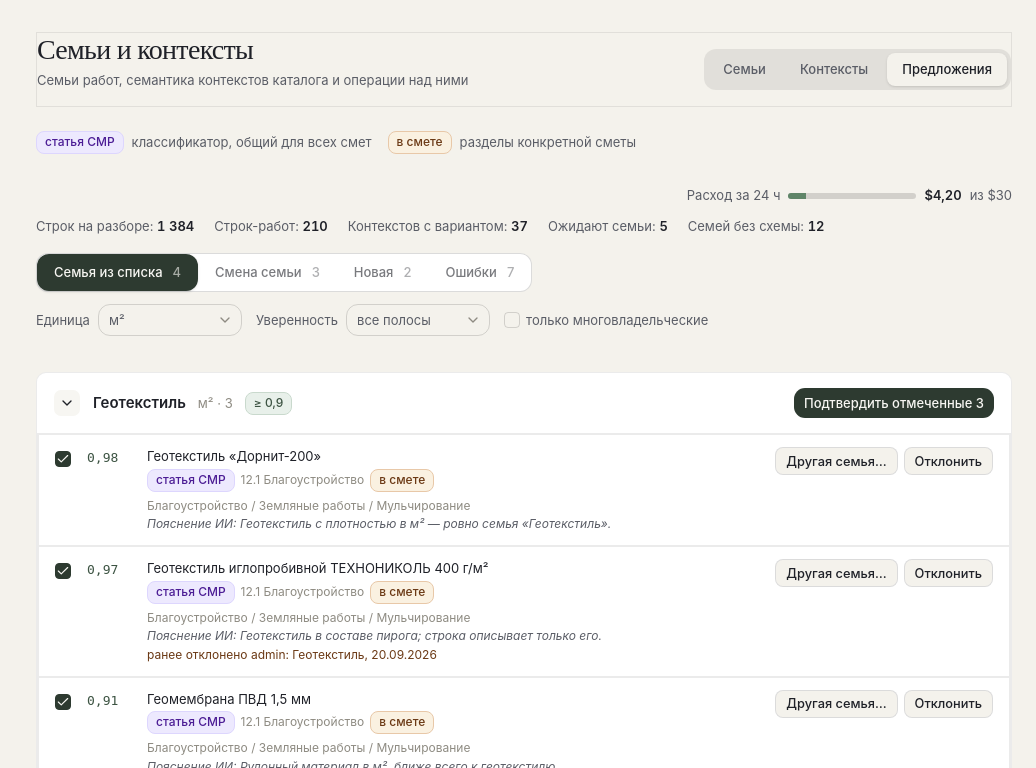
Scenario: FamiliesPage: заметка «не найдено» и жизнь цели › переход «Открыть семью» изнутри вкладки снимает параметры входа из адреса
Click the tab "Ошибки 7".
click(480, 273)  # box [428,254,531,291]
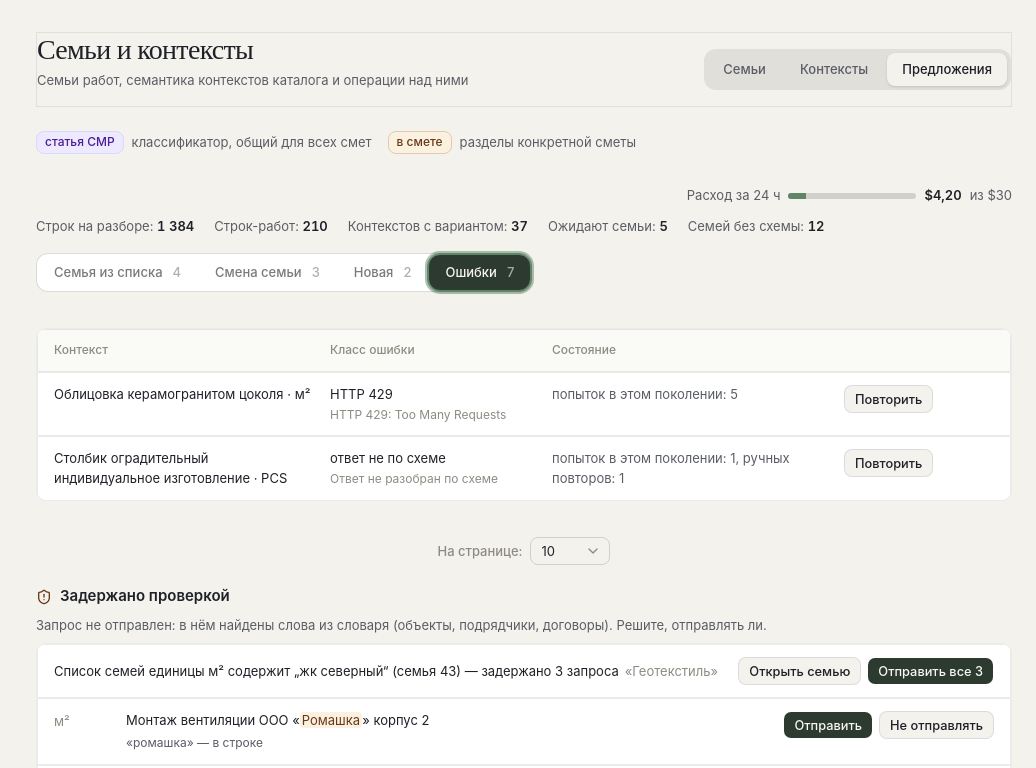
Click the button "Открыть семью".
click(800, 672)  # box [738,658,861,686]
(page scrolled)
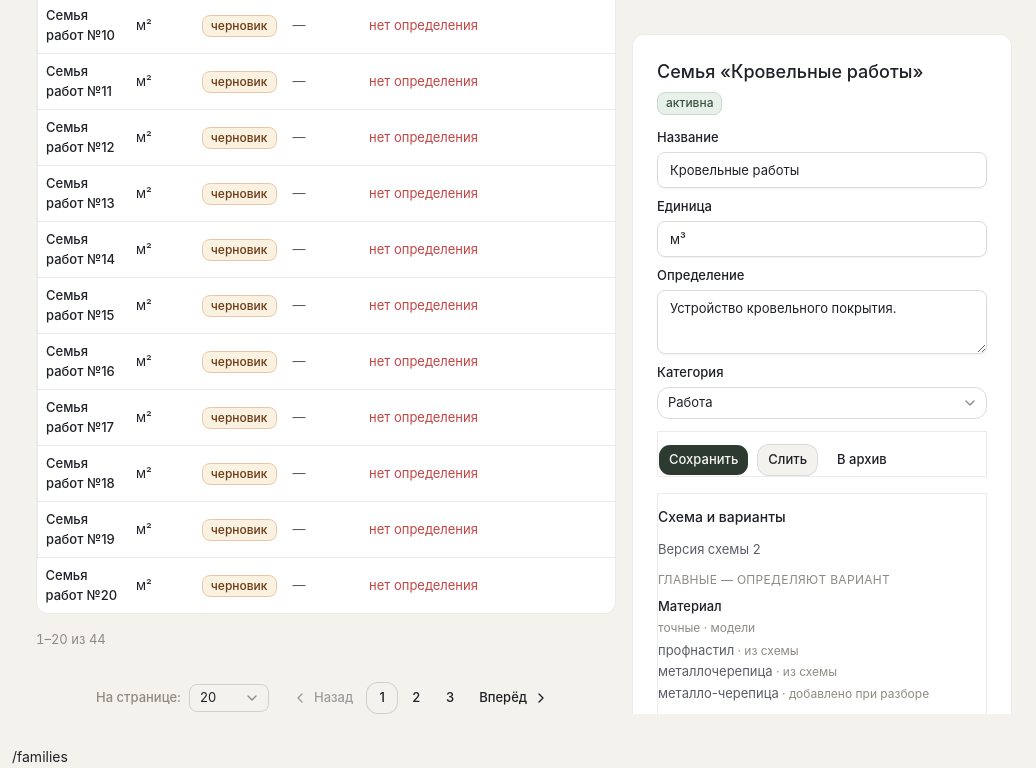
expect the text with test id "loc" reads "/families": met, box [12,748,68,765]
